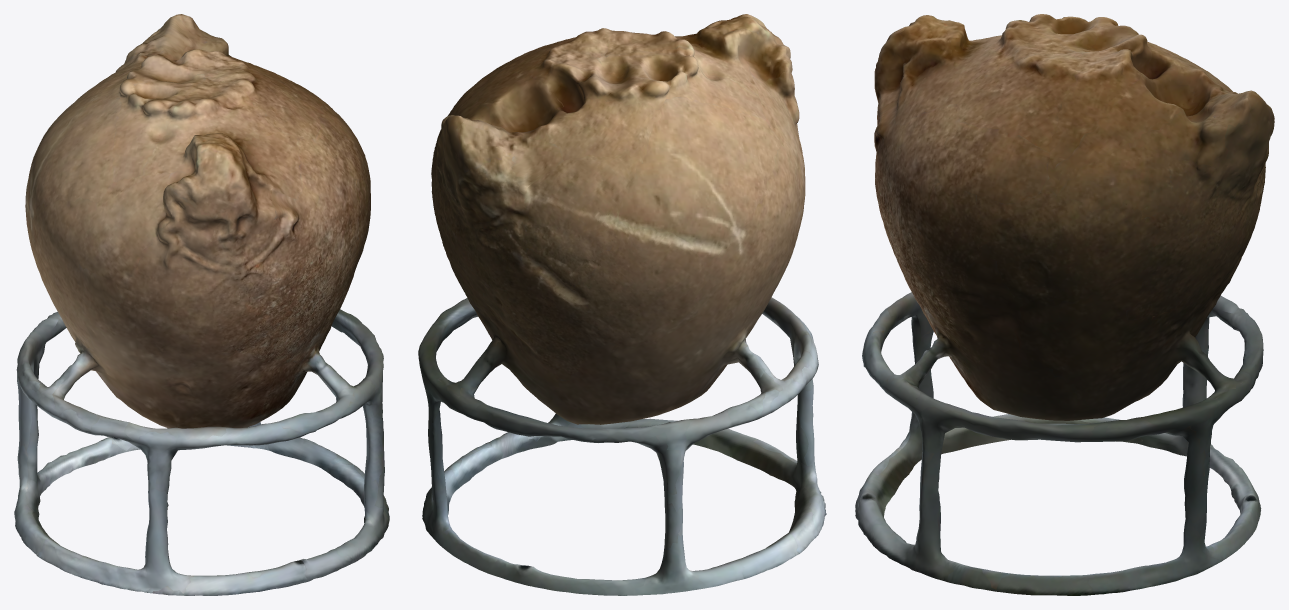
The model's file is vaso_con_mascherone.glb.
3 renders of one model, left to right at view 1: azimuth 30°, elevation 25°; view 2: azimuth 150°, elevation 25°; view 3: azimuth 270°, elevation 25°, orthographic. The views are drawn at different scales.
Visible parts, largest first — view 1: Node1; view 2: Node1; view 3: Node1.
Part boxes in pixels (bbox=[...]): Node1: bbox=[14, 14, 389, 595]; Node1: bbox=[418, 14, 826, 595]; Node1: bbox=[855, 14, 1274, 595].
Size of the model in its own units: 13181 by 16851 by 13566.
1 material, 1 textured.
